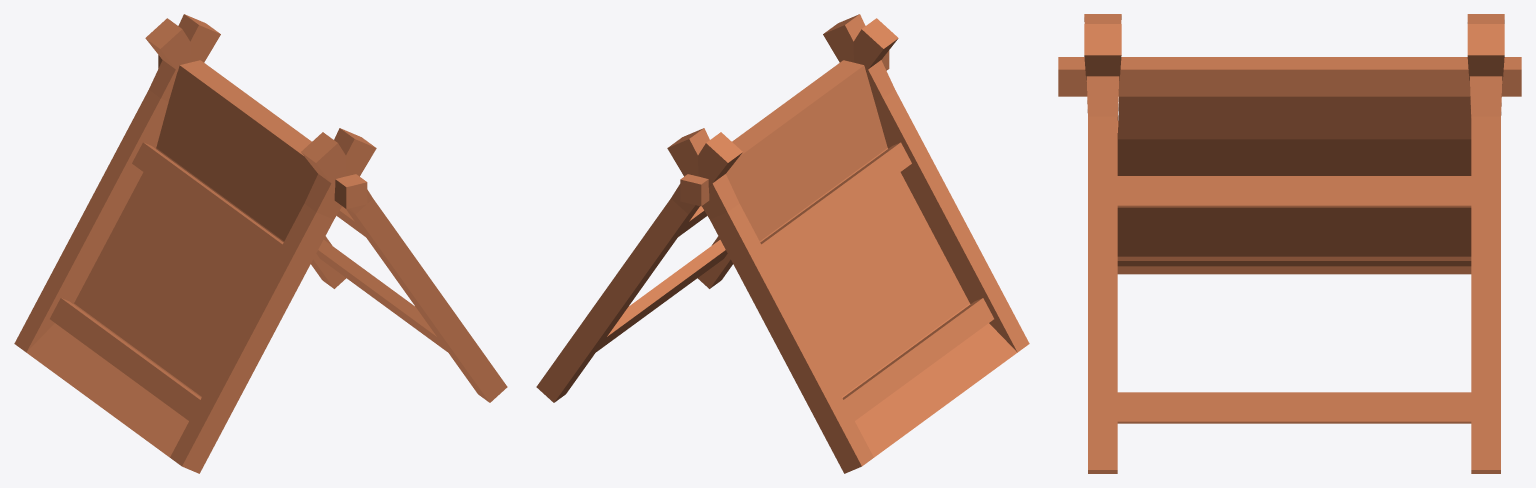
The model's file is tent-canvas-half.obj.
3 renders of one model, left to right at view 1: azimuth 30°, elevation 25°; view 2: azimuth 150°, elevation 25°; view 3: azimuth 270°, elevation 25°, orthographic. The views are drawn at different scales.
Size of the model in its own units: 0.5608 by 0.4914 by 0.561.
